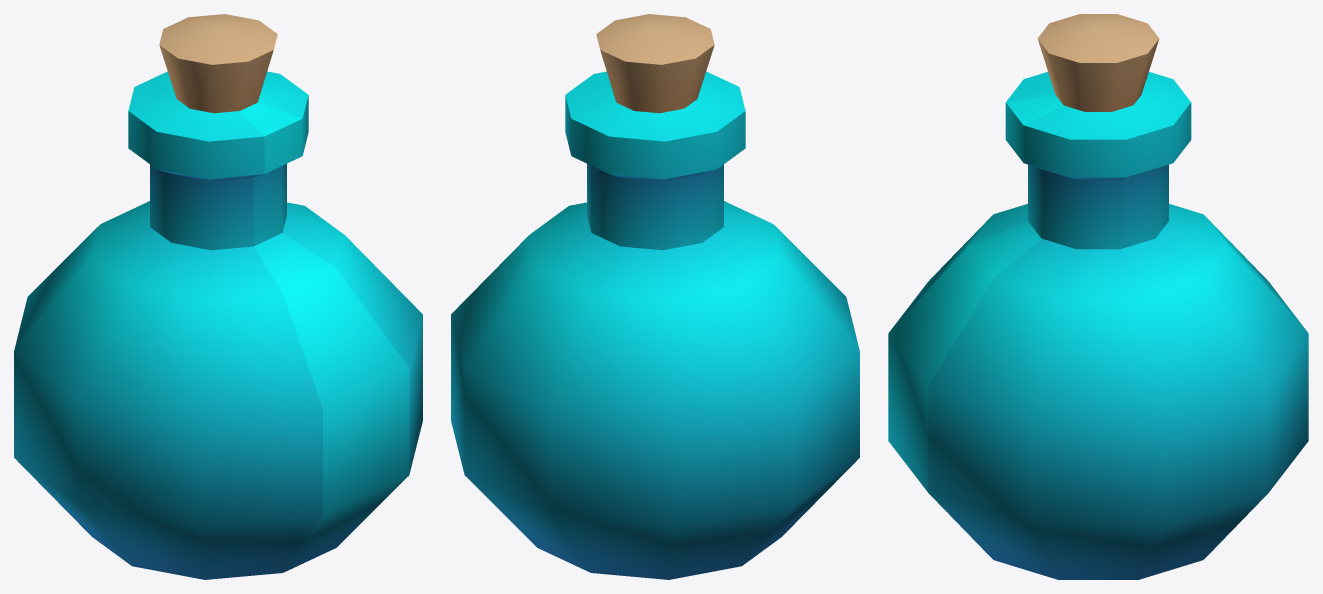
The model's file is potion_medium_blue.gltf.
3 renders of one model, left to right at view 1: azimuth 30°, elevation 25°; view 2: azimuth 150°, elevation 25°; view 3: azimuth 270°, elevation 25°, orthographic.
Visible parts, largest first — view 1: potion_medium_blue; view 2: potion_medium_blue; view 3: potion_medium_blue.
Part boxes in pixels (bbox=[...]): potion_medium_blue: bbox=[14, 14, 422, 579]; potion_medium_blue: bbox=[451, 14, 859, 579]; potion_medium_blue: bbox=[888, 14, 1308, 579].
Bounding box in the file's own units: 0.3429 × 0.5058 × 0.3605.
1 material, 1 textured.
